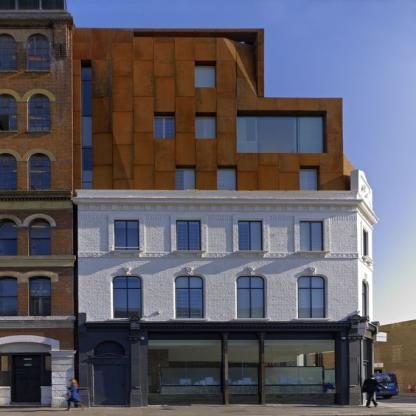Building Outline: (71, 27, 380, 407)
Cornice: (89, 353, 131, 359)
Deco: (309, 266, 317, 275), (123, 266, 131, 275), (185, 266, 193, 275), (247, 266, 255, 275)
Door: (94, 364, 125, 405)
Facade: (71, 27, 358, 407)
Floor Slab: (78, 200, 359, 205), (78, 263, 358, 268), (92, 105, 343, 110), (78, 335, 359, 339), (91, 154, 343, 158)
Glass Wall: (149, 340, 222, 393), (266, 340, 334, 393), (237, 117, 323, 153), (228, 340, 259, 393)
Molding: (77, 204, 357, 212), (139, 323, 350, 328), (86, 323, 131, 328), (79, 214, 109, 220), (330, 215, 357, 221), (145, 252, 171, 258), (145, 214, 171, 220), (79, 252, 109, 257), (208, 252, 233, 258), (270, 252, 295, 258), (208, 214, 233, 220), (270, 215, 295, 221), (330, 253, 358, 258)
Pillar: (127, 328, 145, 407), (77, 328, 90, 407), (347, 327, 360, 405), (221, 332, 228, 404), (259, 332, 265, 404)
Sill: (108, 251, 144, 258), (294, 251, 330, 258), (234, 251, 269, 258), (172, 251, 207, 258)
Window: (134, 32, 258, 97), (298, 277, 325, 318), (82, 68, 91, 189), (114, 277, 140, 318), (176, 277, 202, 318), (238, 277, 264, 318), (300, 220, 325, 250), (114, 220, 139, 250), (238, 220, 263, 250), (176, 220, 201, 250), (153, 117, 175, 138), (195, 117, 217, 138), (196, 66, 216, 87), (298, 169, 317, 190), (217, 169, 236, 190), (176, 169, 195, 190)
